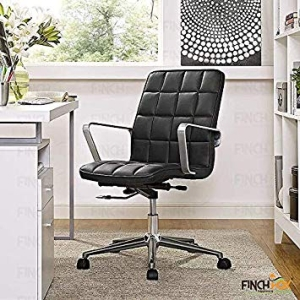chair: (76, 69, 232, 281)
